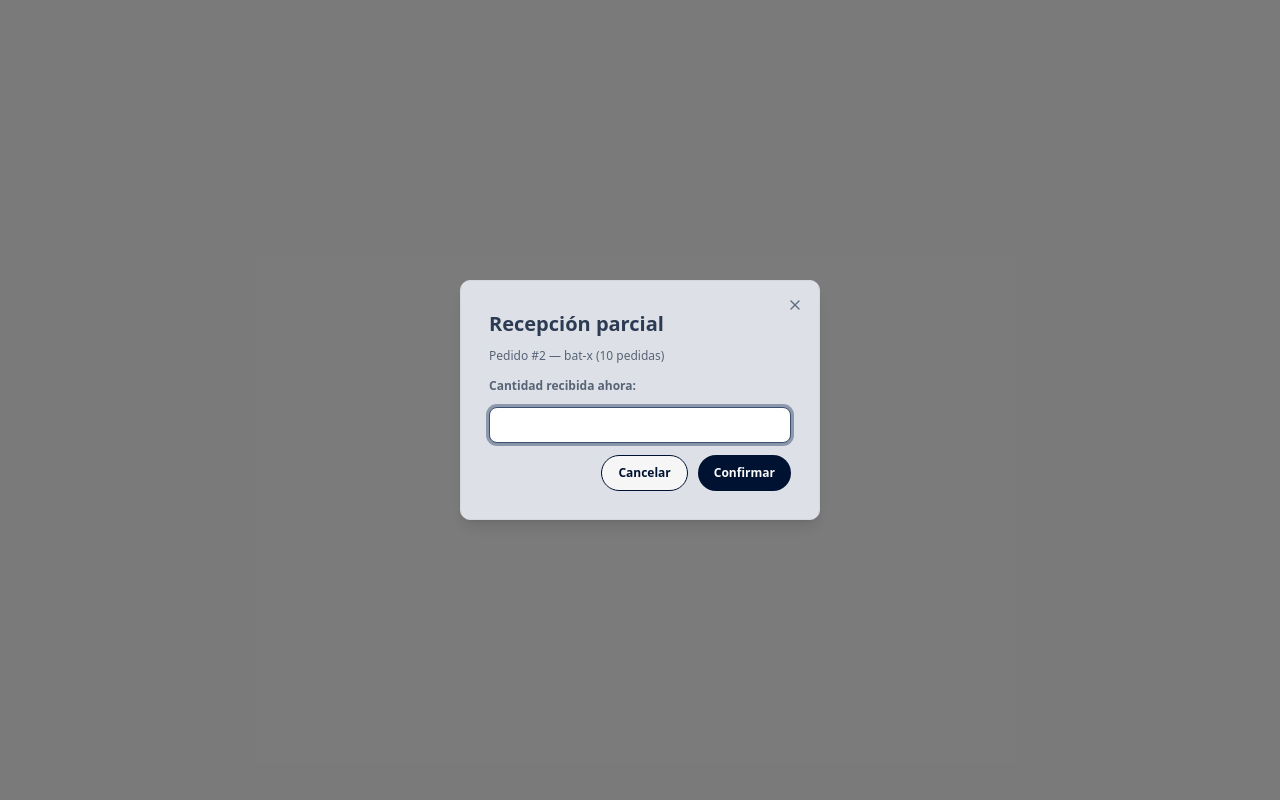
Test: CantidadDialog (spec 4b §6, P6) › "Recepción parcial": "Cantidad no válida." si no es un número y el rango con la cantidad pedida; no confirma
Type "abc" into the field labelled "Cantidad recibida ahora:" at (640, 425), box x1=489 y1=407 x2=791 y2=443
Then press Enter
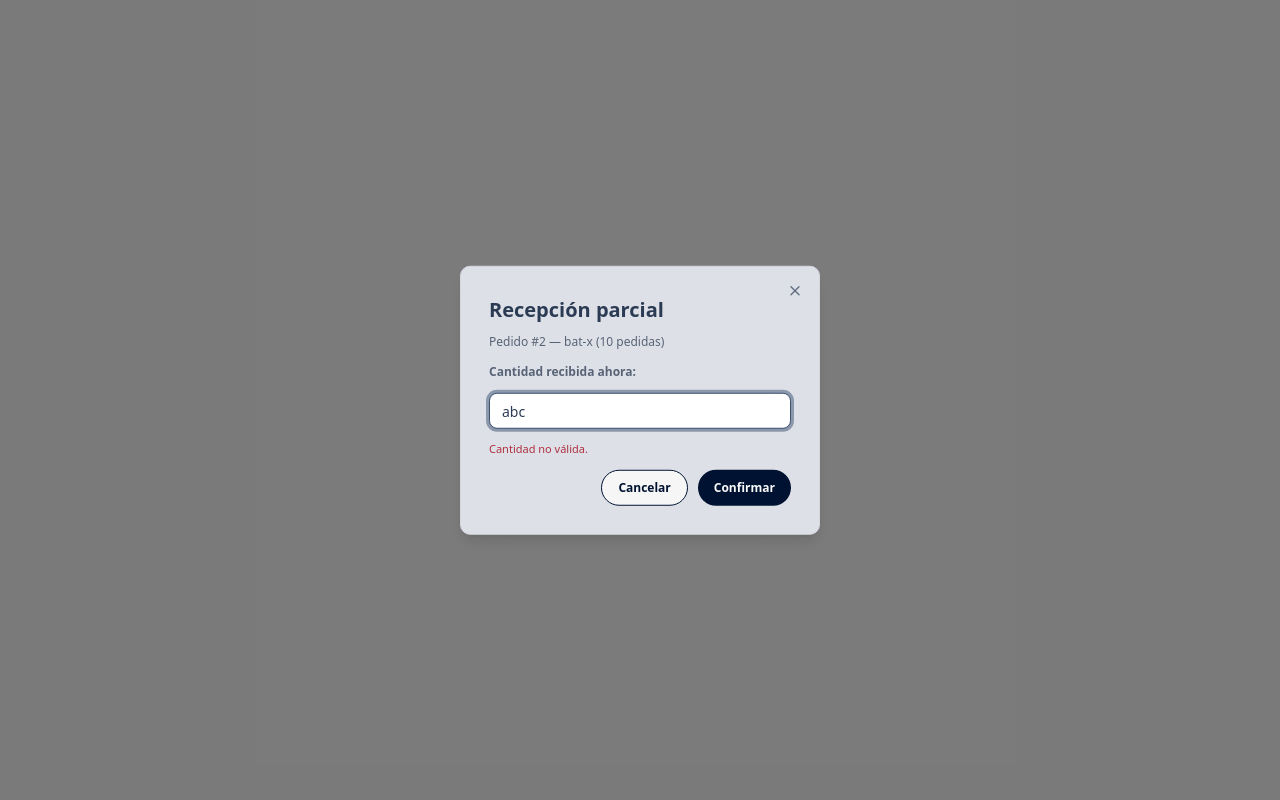
Check: the message reads "Cantidad no válida.", box x1=489 y1=441 x2=588 y2=456
Replace the text in the field labelled "Cantidad recibida ahora:" with "10" at (640, 411), box x1=489 y1=393 x2=791 y2=429
Then press Enter
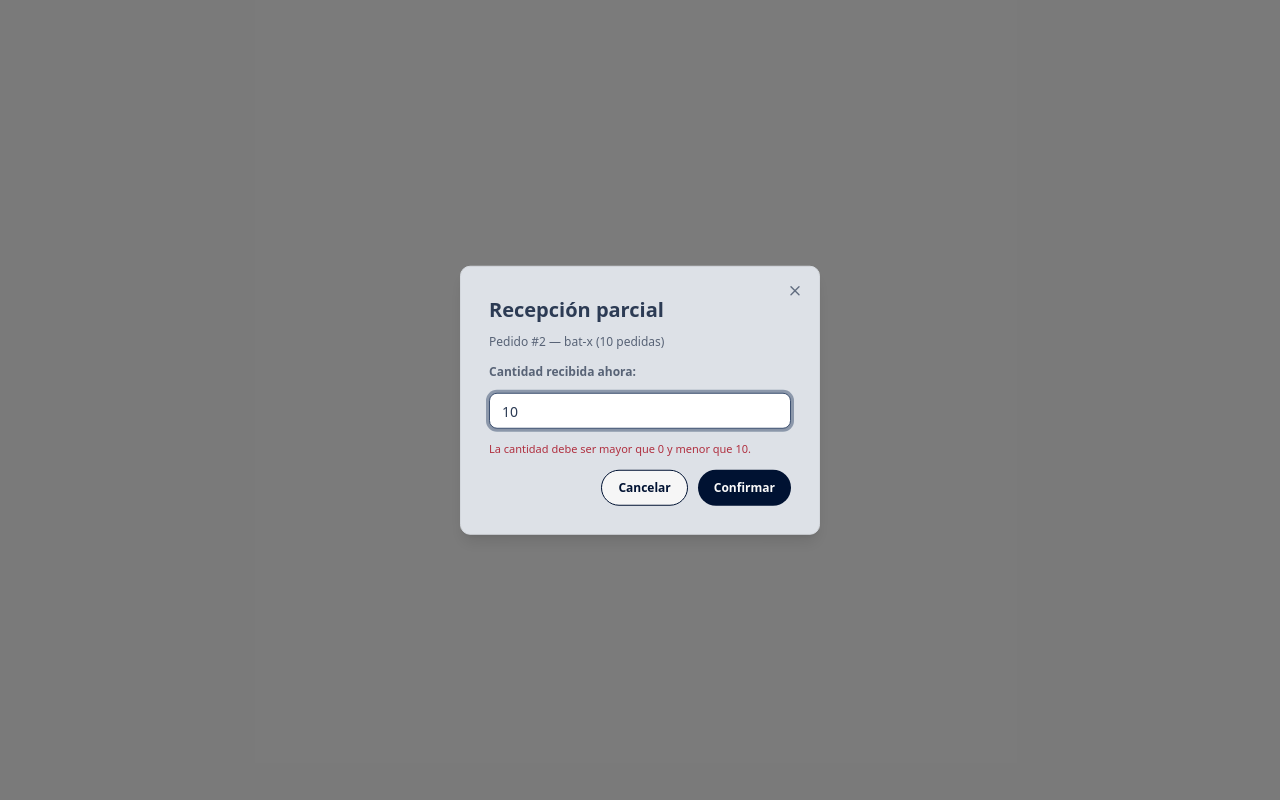
Check: the dialog "Recepción parcial" is shown, box x1=460 y1=266 x2=820 y2=534
Check: the message reads "La cantidad debe ser mayor que 0 y menor que 10.", box x1=489 y1=441 x2=751 y2=456
